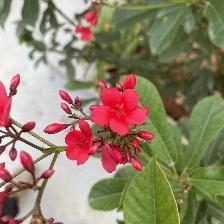jatropha: (90, 84, 151, 136), (64, 117, 100, 169), (1, 79, 15, 129)
